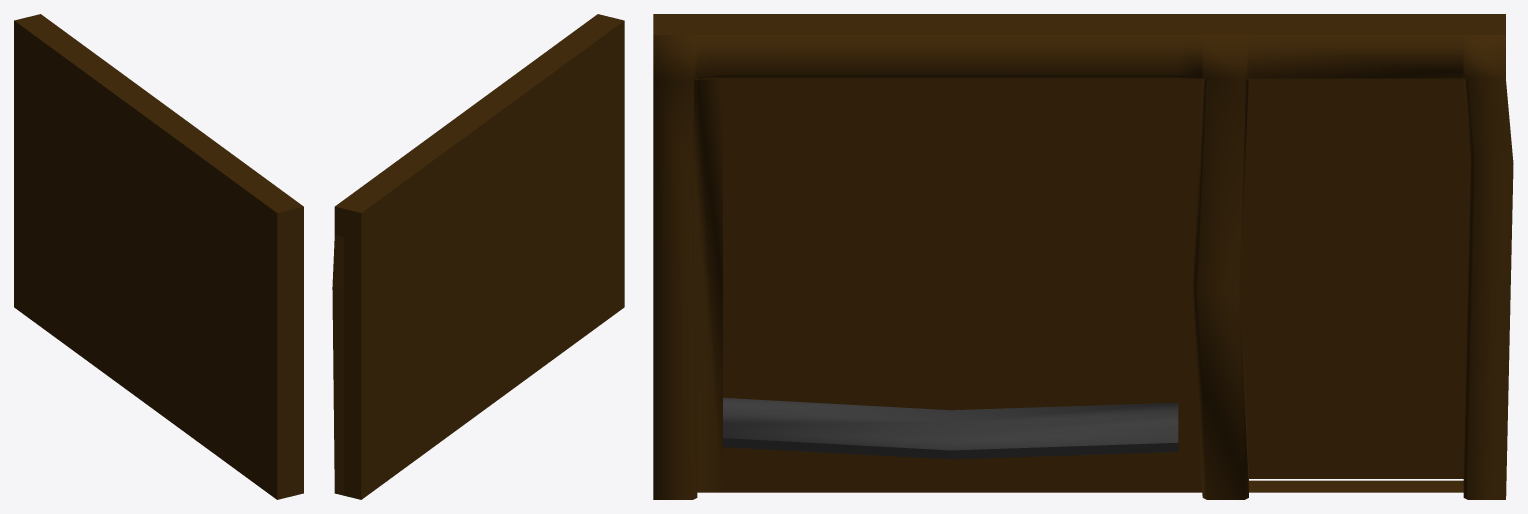
Rendered from Butcher.fbx.
The picture shows the model from 3 angles, left to right: view 1: azimuth 30°, elevation 25°; view 2: azimuth 150°, elevation 25°; view 3: azimuth 270°, elevation 25°; orthographic projection. The views are drawn at different scales.
Parts seen in each view (by area): view 1: Cube.001; view 2: Cube.001; view 3: Cube.001.
Boxes of the visible parts, x1,y1,x2,y2 form: Cube.001: (14,14,303,499); Cube.001: (332,14,624,499); Cube.001: (653,14,1513,499).
Size of the model in its own units: 49.27 by 578 by 345.
